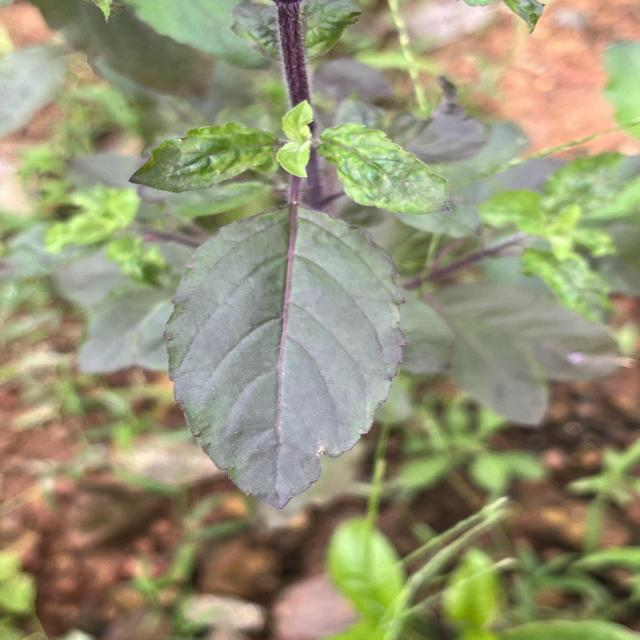Ocimum tenuiflorum: (156, 197, 416, 518)
